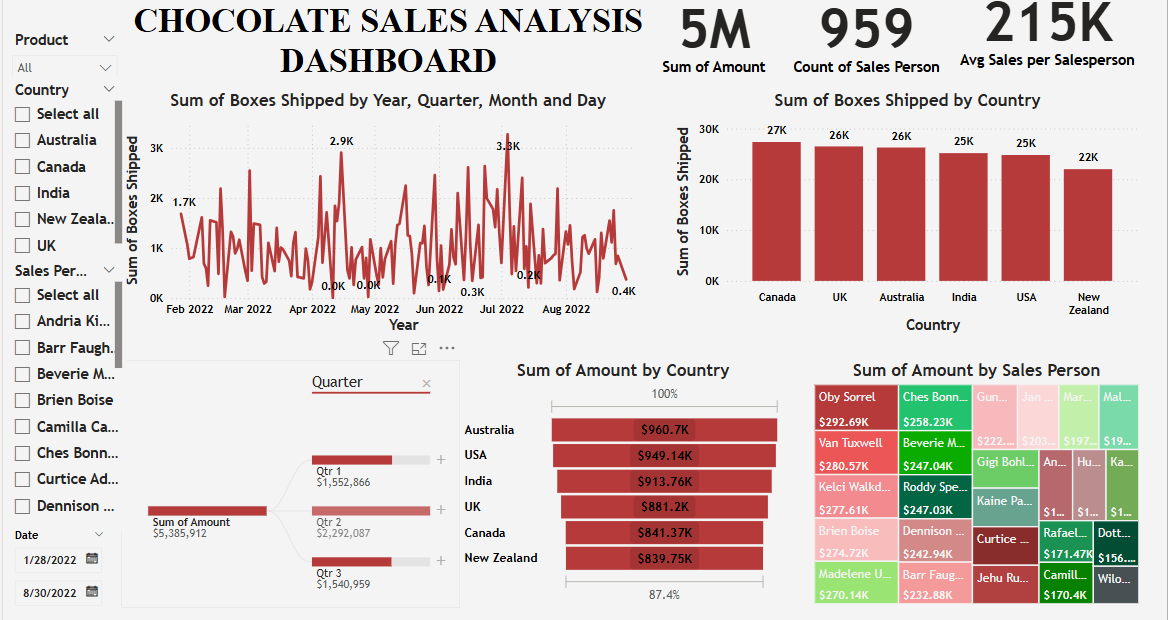

This screenshot's page, from the dashboard's own definition file:
{"tool":"powerbi","page":{"name":"Page 2","canvas":[1280,720],"ordinal":1},"visuals":[{"type":"funnel","fields":{"Y":["Chocolate Sales.Amount"],"Category":["Chocolate Sales.Country"]},"box":[502.9,432.1,358.9,272.9],"z":0},{"type":"decompositionTreeVisual","fields":{"ExplainBy":["Chocolate Sales.Date.Variation.Date Hierarchy.Quarter","Chocolate Sales.Date.Variation.Date Hierarchy.Year","Chocolate Sales.Date.Variation.Date Hierarchy.Day","Chocolate Sales.Date.Variation.Date Hierarchy.Month","Chocolate Sales.Country","Chocolate Sales.Product"],"Analyze":["Chocolate Sales.Amount"]},"box":[130.1,432.1,372.8,272.9],"z":1000},{"type":"columnChart","fields":{"Y":["Chocolate Sales.Boxes Shipped"],"Category":["Chocolate Sales.Country"]},"box":[735.4,135.2,518.1,272.9],"z":2000},{"type":"treemap","fields":{"Group":["Chocolate Sales.Sales Person"],"Values":["Chocolate Sales.Amount"]},"box":[887,432.1,366.4,272.9],"z":3000},{"type":"lineChart","fields":{"Y":["Chocolate Sales.Boxes Shipped"],"Category":["Chocolate Sales.Date.Variation.Date Hierarchy.Year","Chocolate Sales.Date.Variation.Date Hierarchy.Quarter","Chocolate Sales.Date.Variation.Date Hierarchy.Month","Chocolate Sales.Date.Variation.Date Hierarchy.Day"]},"box":[130.1,135.2,587.6,272.9],"z":4000},{"type":"slicer","fields":{"Values":["Chocolate Sales.Country"]},"box":[0,120.8,135.6,209.6],"z":5000},{"type":"slicer","fields":{"Values":["Chocolate Sales.Product"]},"box":[0,66.1,135.6,54.7],"z":6000},{"type":"slicer","fields":{"Values":["Chocolate Sales.Sales Person"]},"box":[0,320.1,135.6,299.6],"z":7000},{"type":"slicer","fields":{"Values":["Chocolate Sales.Date"]},"box":[0,612.9,123,92.3],"z":8000},{"type":"card","fields":{"Values":["Chocolate Sales.Amount"]},"box":[707.5,9.1,149.2,126.5],"z":9000},{"type":"card","fields":{"Values":["Chocolate Sales.Sales Person"]},"box":[856.7,9.1,185.7,126.5],"z":10000},{"type":"card","fields":{"Values":["Chocolate Sales.Avg Sales per Salesperson"]},"box":[1042.4,9.1,211.9,111.6],"z":11000},{"type":"textbox","box":[129.9,33,587.8,102.5],"z":12000}]}

Visuals, with their boxes on the page's 1280x720 design canvas (x1, y1, x2, y2). These are canvas units, not pixel positions in the 1168x620 screenshot, which may show the page scaled, cropped or inside an application window:
funnel - Chocolate Sales.Amount x Chocolate Sales.Country: <region>503, 432, 862, 705</region>
decompositionTreeVisual - Chocolate Sales.Date.Variation.Date Hierarchy.Quarter x Chocolate Sales.Date.Variation.Date Hierarchy.Year: <region>130, 432, 503, 705</region>
columnChart - Chocolate Sales.Boxes Shipped x Chocolate Sales.Country: <region>735, 135, 1254, 408</region>
treemap - Chocolate Sales.Sales Person x Chocolate Sales.Amount: <region>887, 432, 1253, 705</region>
lineChart - Chocolate Sales.Boxes Shipped x Chocolate Sales.Date.Variation.Date Hierarchy.Year: <region>130, 135, 718, 408</region>
slicer - Chocolate Sales.Country: <region>0, 121, 136, 330</region>
slicer - Chocolate Sales.Product: <region>0, 66, 136, 121</region>
slicer - Chocolate Sales.Sales Person: <region>0, 320, 136, 620</region>
slicer - Chocolate Sales.Date: <region>0, 613, 123, 705</region>
card - Chocolate Sales.Amount: <region>708, 9, 857, 136</region>
card - Chocolate Sales.Sales Person: <region>857, 9, 1042, 136</region>
card - Chocolate Sales.Avg Sales per Salesperson: <region>1042, 9, 1254, 121</region>
textbox: <region>130, 33, 718, 136</region>
